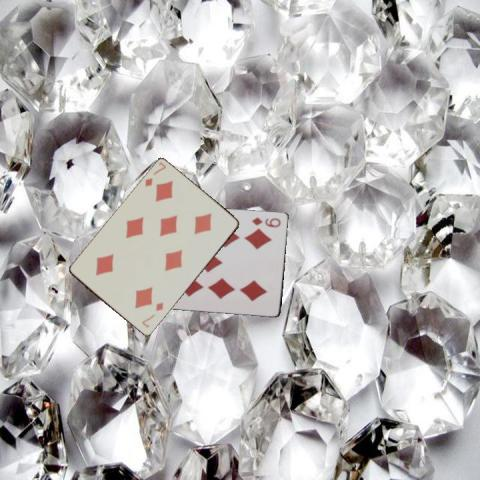7d: (138, 300, 164, 330), (142, 159, 167, 189)
9d: (249, 214, 282, 228)
